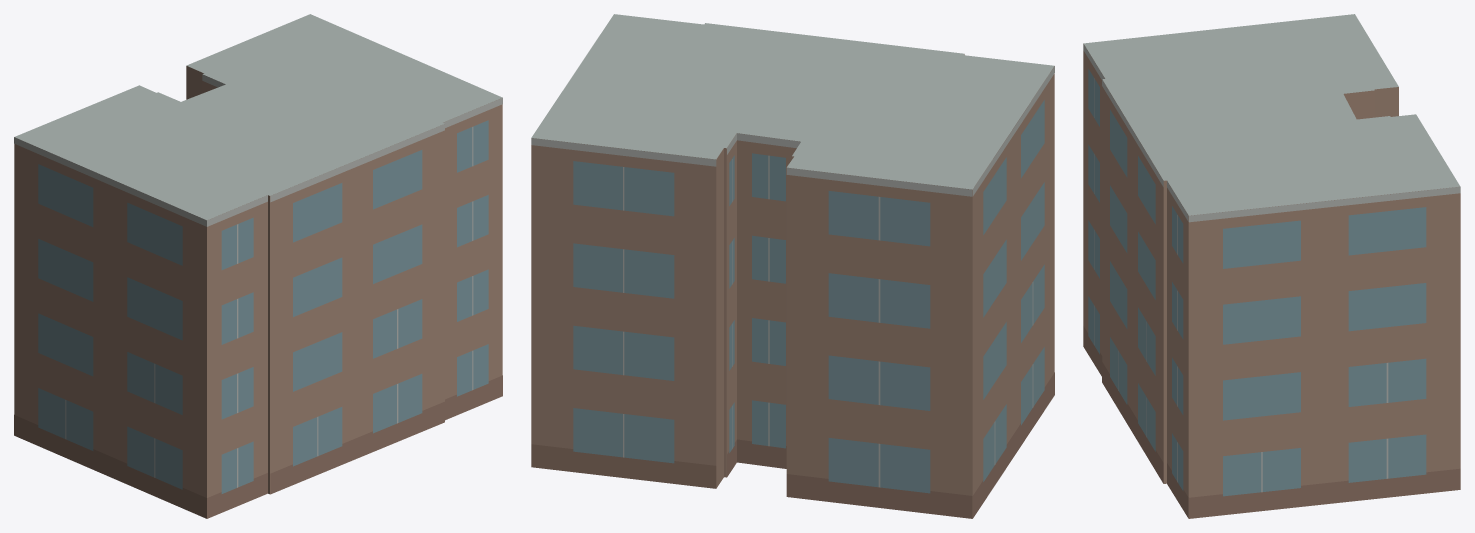
Rendered from survey-upis-32721300.glb.
3 renders of one model, left to right at view 1: azimuth 30°, elevation 25°; view 2: azimuth 150°, elevation 25°; view 3: azimuth 270°, elevation 25°, orthographic. The views are drawn at different scales.
Visible parts, largest first — view 1: survey-upis-32721300.tmp; view 2: survey-upis-32721300.tmp; view 3: survey-upis-32721300.tmp.
Boxes of the visible parts, box(x1,y1,x2,y2) form: survey-upis-32721300.tmp: box(14, 14, 502, 518); survey-upis-32721300.tmp: box(531, 14, 1054, 518); survey-upis-32721300.tmp: box(1083, 14, 1460, 518).
Bounding box in the file's own units: 15.84 × 11.1 × 12.52.
